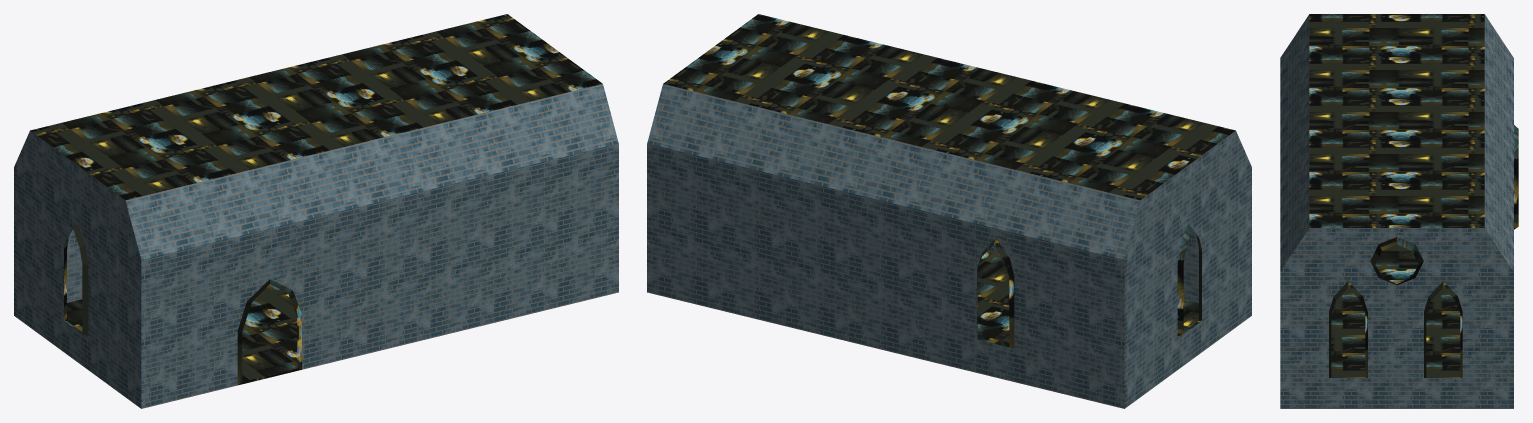
The model's file is LMA_chapel_int.dae.
3 renders of one model, left to right at view 1: azimuth 30°, elevation 25°; view 2: azimuth 150°, elevation 25°; view 3: azimuth 270°, elevation 25°, orthographic. The views are drawn at different scales.
Visible parts, largest first — view 1: chapel_Module_Common_LMA_chapel_int; view 2: chapel_Module_Common_LMA_chapel_int; view 3: chapel_Module_Common_LMA_chapel_int.
Part boxes in pixels (left/top/right/bottom): chapel_Module_Common_LMA_chapel_int: left=14, top=14, right=618, bottom=408; chapel_Module_Common_LMA_chapel_int: left=647, top=14, right=1251, bottom=408; chapel_Module_Common_LMA_chapel_int: left=1280, top=14, right=1518, bottom=408.
Bounding box in the file's own units: 21.3 × 9.8 × 8.2.
